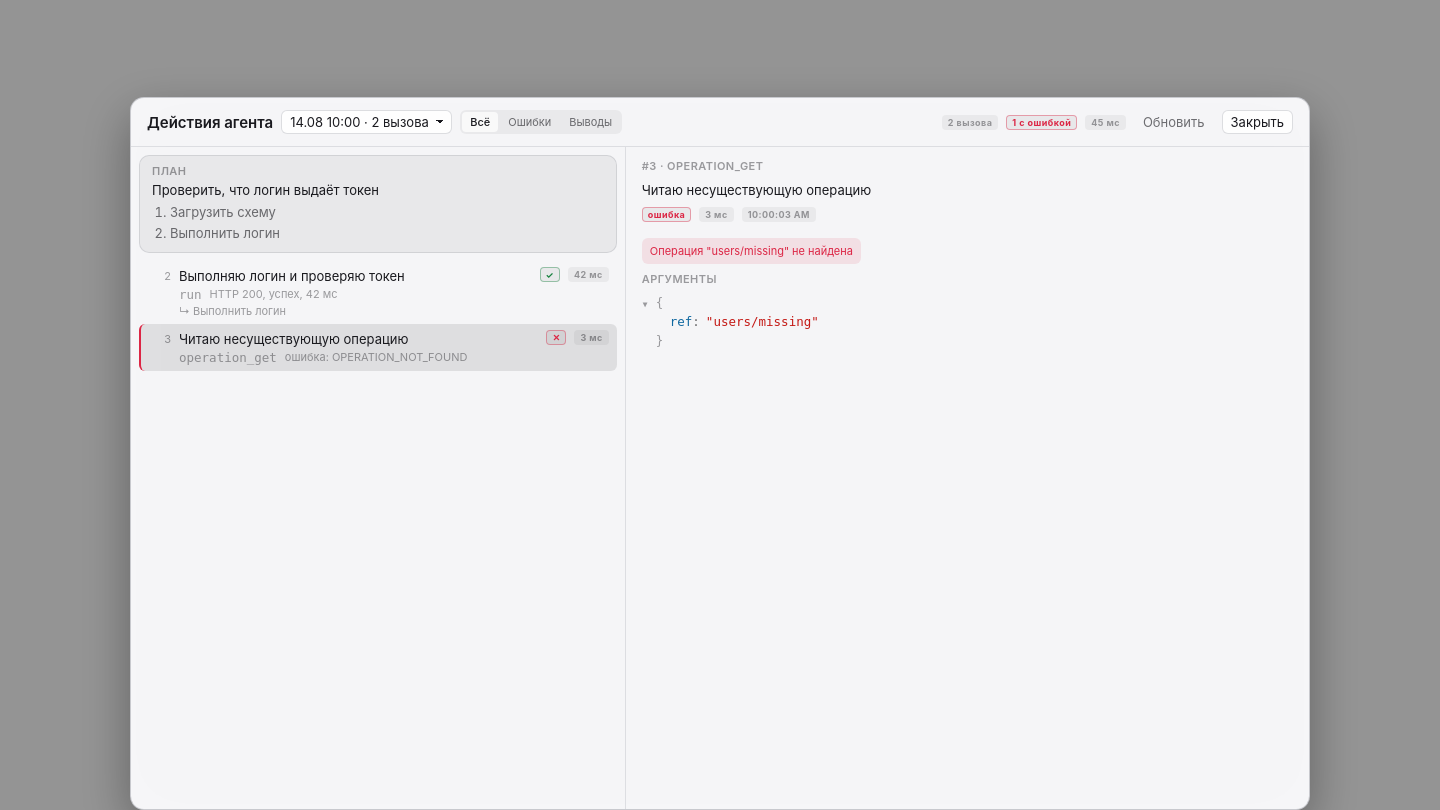
Test: журнал действий агента › раскрывает аргументы и результат выбранного вызова
Step 1. Click the text "Выполняю логин и проверяю токен" → coordinates (292, 276), box [179,268,405,284]
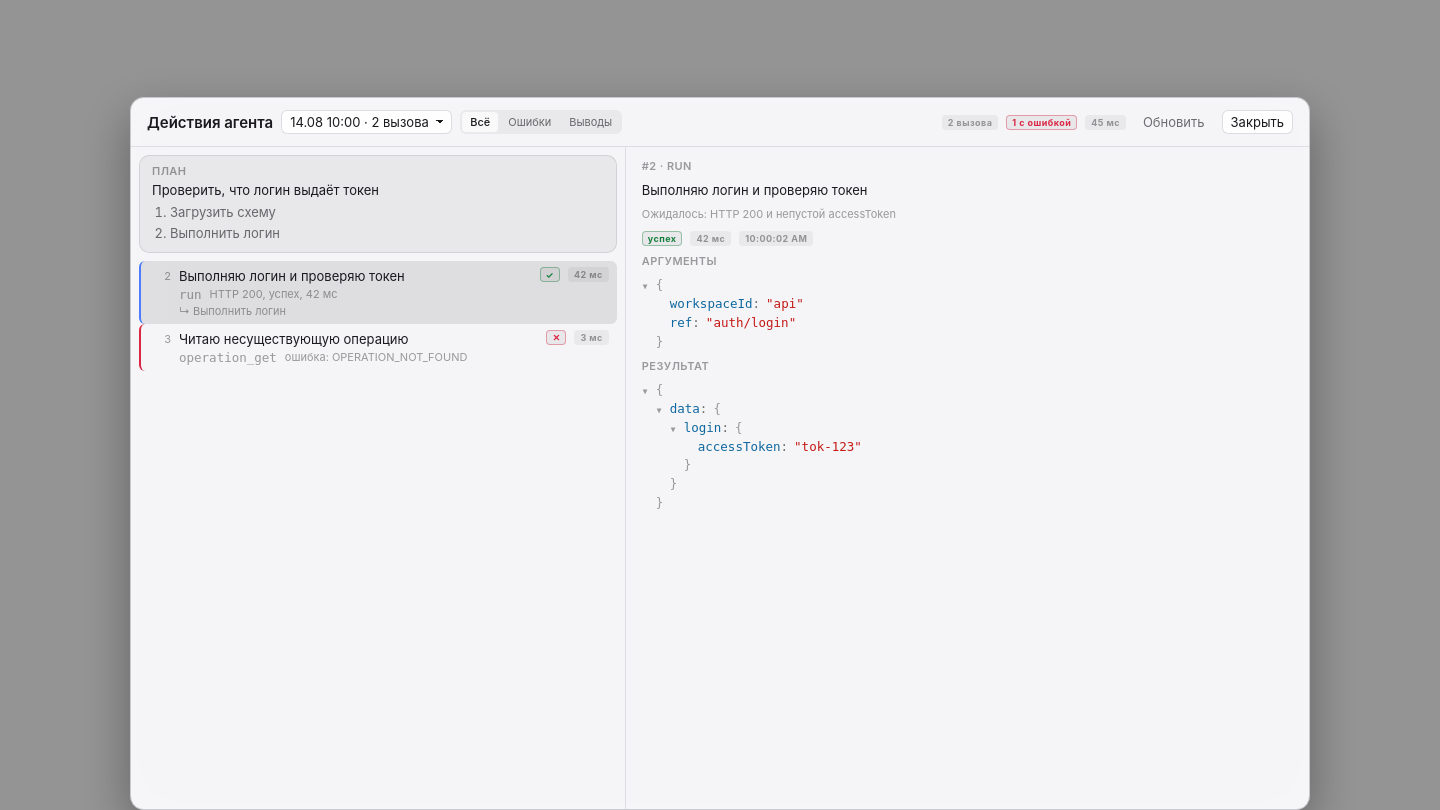
Expected: the text "Аргументы" is shown, [642,254,717,268]
Result: the text "Ожидалось: HTTP 200 и непустой accessToken" is shown at [642,207,896,223]
Result: the text "accessToken" is shown at [698,438,788,456]
